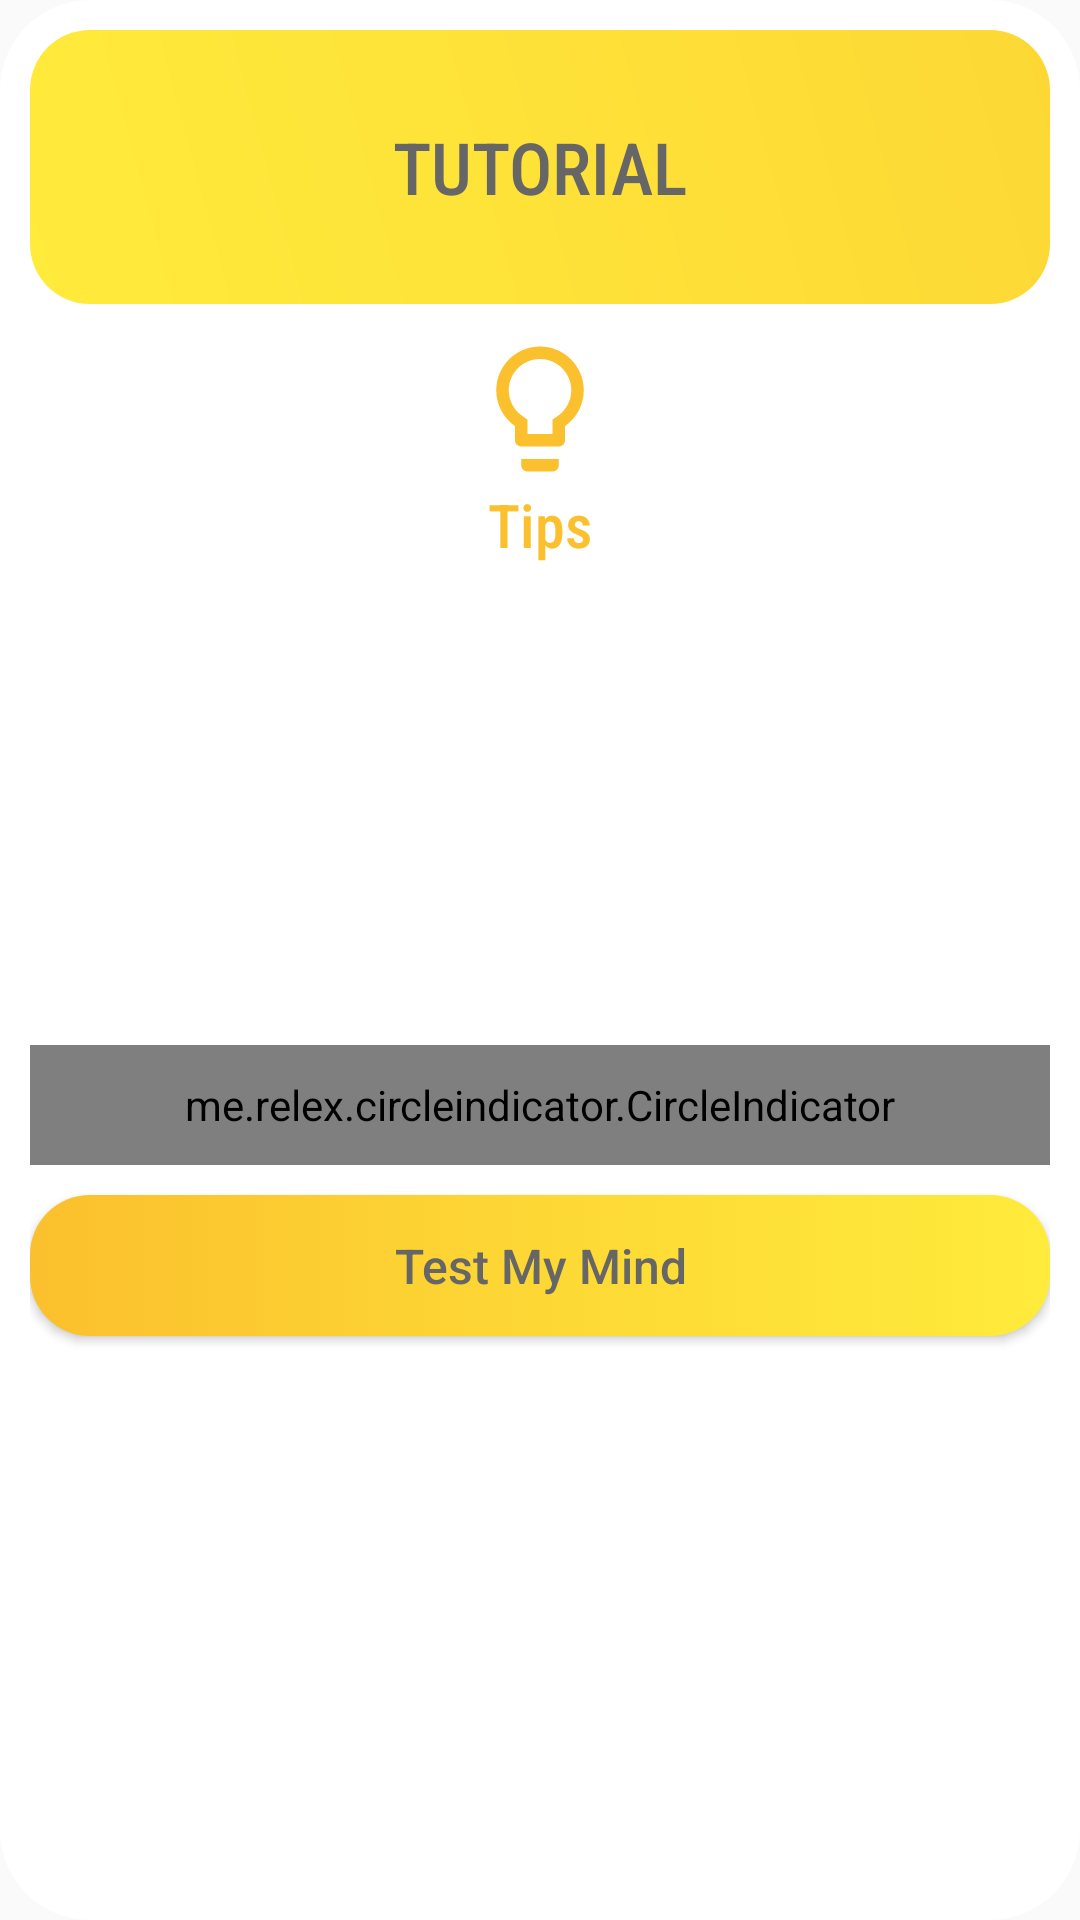

Screen size 1080px×1920px. Icon name, then its box in pixels as (x1, y1, x2, y2):
lightbulb: (496, 346, 584, 472)
